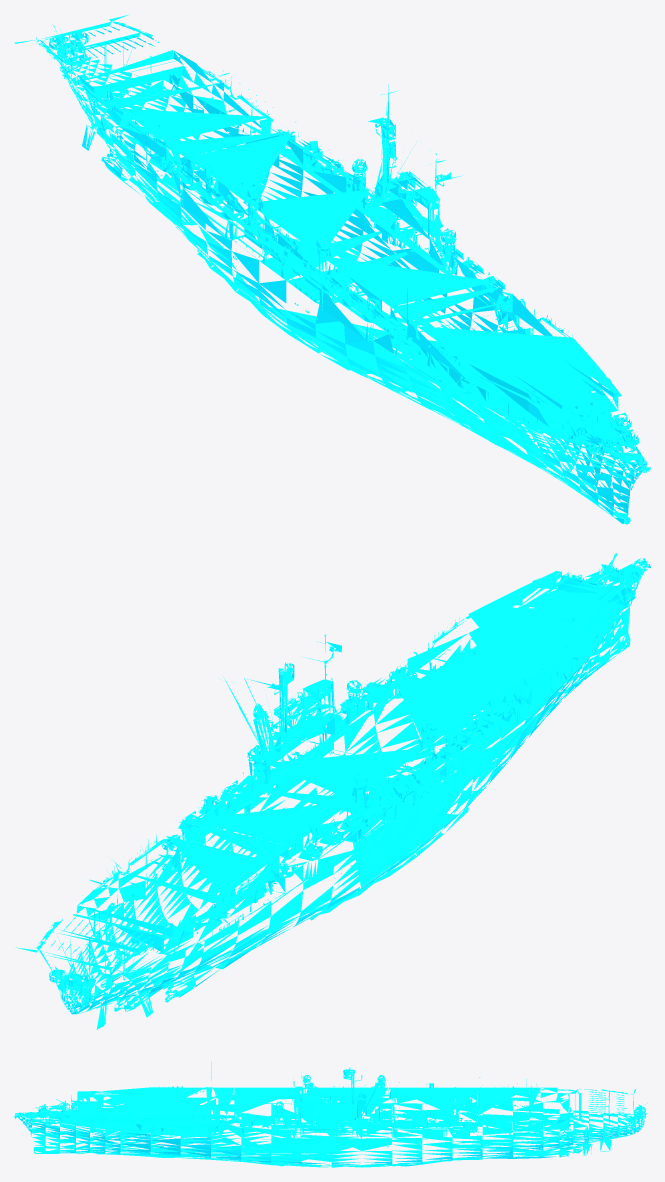
File: PGSA990.glb
3 views of the same model, one above another, from view 1: azimuth 30°, elevation 25°; view 2: azimuth 150°, elevation 25°; view 3: azimuth 270°, elevation 25° (orthographic). The views are drawn at different scales.
Visible parts, largest first — view 1: hull_bow, secondary_battery, aa_mount, superstructure; view 2: hull_bow, secondary_battery, aa_mount, superstructure; view 3: hull_bow, secondary_battery, aa_mount, superstructure.
Part boxes in pixels (x1,y1,x2,y2): hull_bow: (14, 14, 650, 524); secondary_battery: (178, 139, 505, 322); aa_mount: (52, 25, 635, 447); superstructure: (247, 117, 456, 248); hull_bow: (16, 558, 650, 1029); secondary_battery: (177, 678, 505, 861); aa_mount: (53, 553, 635, 983); superstructure: (247, 642, 436, 786); hull_bow: (14, 1061, 646, 1167); secondary_battery: (233, 1095, 454, 1128); aa_mount: (35, 1099, 647, 1126); superstructure: (275, 1075, 385, 1109).
Size of the model in its own units: 2.98 by 3.52 by 18.72.
